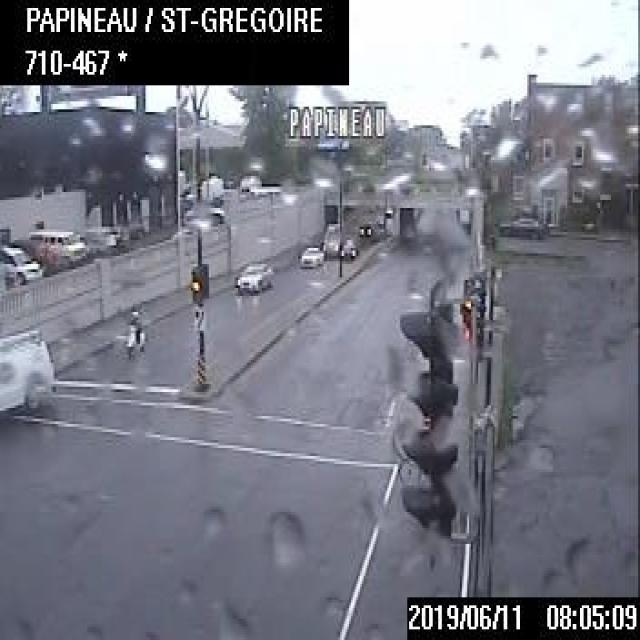vehicle: (0, 326, 53, 414), (25, 228, 85, 262), (0, 243, 44, 285), (495, 211, 549, 238), (234, 258, 271, 290), (126, 307, 146, 357), (321, 222, 338, 258), (338, 236, 358, 262), (298, 245, 325, 264), (355, 221, 374, 238)
